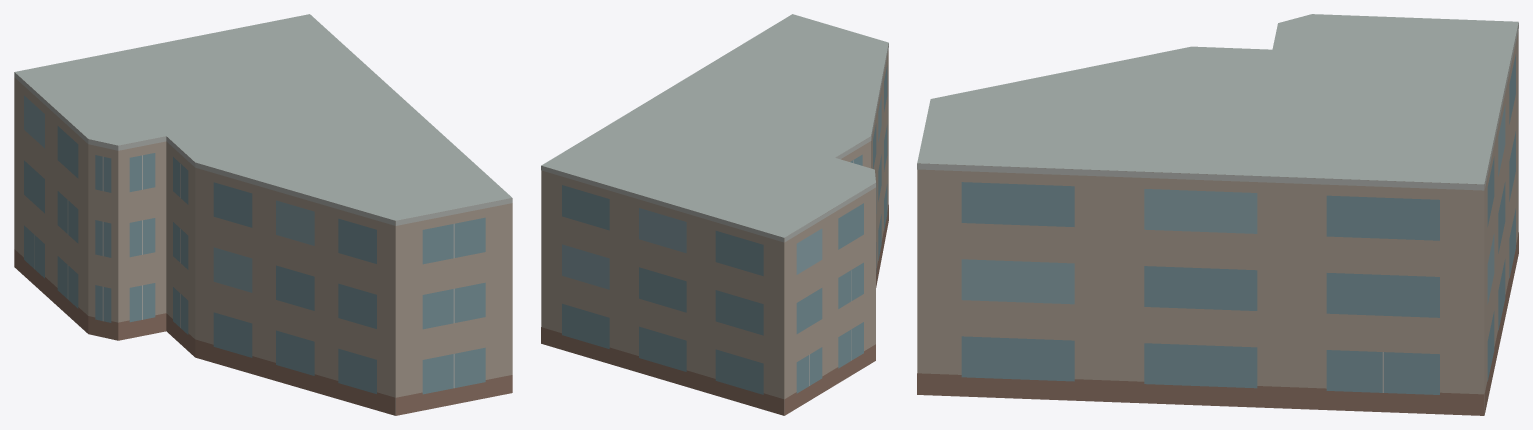
The model's file is survey-upis-32941943.glb.
3 renders of one model, left to right at view 1: azimuth 30°, elevation 25°; view 2: azimuth 150°, elevation 25°; view 3: azimuth 270°, elevation 25°, orthographic. The views are drawn at different scales.
Visible parts, largest first — view 1: survey-upis-32941943.tmp; view 2: survey-upis-32941943.tmp; view 3: survey-upis-32941943.tmp.
Part boxes in pixels (bbox=[...]): survey-upis-32941943.tmp: bbox=[14, 14, 512, 415]; survey-upis-32941943.tmp: bbox=[541, 14, 888, 415]; survey-upis-32941943.tmp: bbox=[917, 14, 1518, 415].
Bounding box in the file's own units: 14.45 × 9.15 × 21.57.
